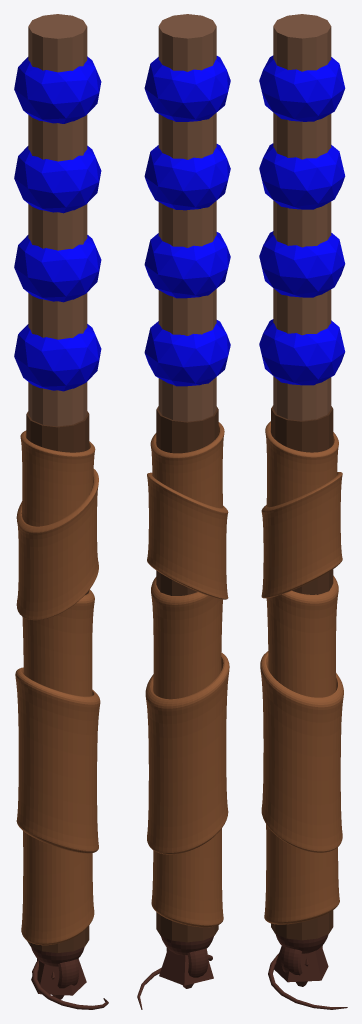
The model's file is Wand 333.glb.
3 renders of one model, left to right at view 1: azimuth 30°, elevation 25°; view 2: azimuth 210°, elevation 25°; view 3: azimuth 330°, elevation 25°, orthographic.
Visible parts, largest first — view 1: GeneratedWand, Pommel_9, Pommel_4, Pommel_10, Pommel_2; view 2: GeneratedWand, Pommel_9, Pommel_2; view 3: GeneratedWand, Pommel_9, Pommel_4, Pommel_2, Pommel_10.
Part boxes in pixels (x1=…): GeneratedWand: x1=14, y1=14, x2=101, y2=961; Pommel_9: x1=31, y1=959, x2=86, y2=995; Pommel_4: x1=34, y1=947, x2=84, y2=966; Pommel_10: x1=32, y1=960, x2=108, y2=1009; Pommel_2: x1=37, y1=958, x2=78, y2=988; GeneratedWand: x1=144, y1=14, x2=230, y2=955; Pommel_9: x1=159, y1=949, x2=213, y2=985; Pommel_2: x1=166, y1=947, x2=208, y2=977; GeneratedWand: x1=259, y1=14, x2=345, y2=945; Pommel_9: x1=274, y1=946, x2=328, y2=982; Pommel_4: x1=275, y1=934, x2=325, y2=953; Pommel_2: x1=281, y1=945, x2=322, y2=975; Pommel_10: x1=268, y1=953, x2=347, y2=1009.
Bounding box in the file's own units: 0.0462 × 0.521 × 0.0428.
